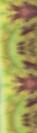Tomato leaf bacterial spot: (0, 43, 37, 90)
